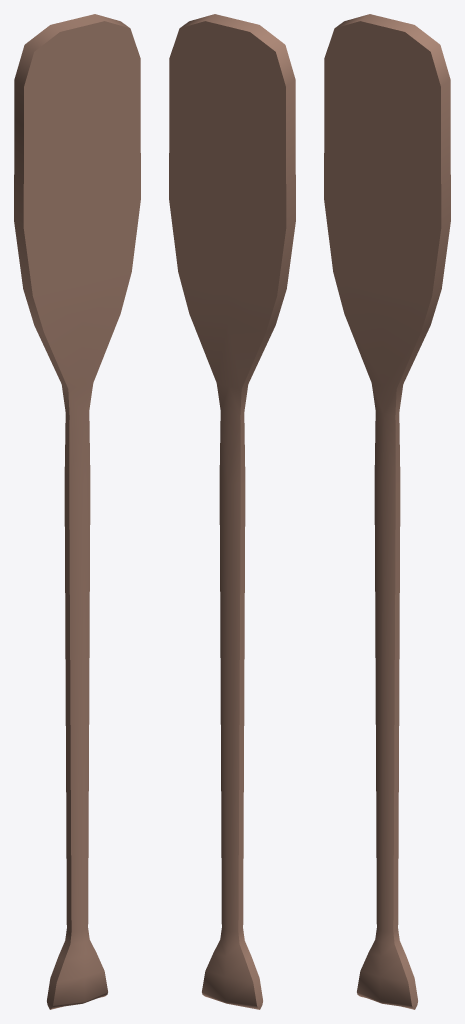
The model's file is Paddle.fbx.
The picture shows the model from 3 angles, left to right: view 1: azimuth 30°, elevation 25°; view 2: azimuth 150°, elevation 25°; view 3: azimuth 330°, elevation 25°; orthographic projection.
Parts seen in each view (by area): view 1: Paddle; view 2: Paddle; view 3: Paddle.
Boxes of the visible parts, bbox=[...] form: Paddle: bbox=[14, 14, 140, 1009]; Paddle: bbox=[169, 14, 295, 1009]; Paddle: bbox=[324, 14, 450, 1009].
Size of the model in its own units: 29.76 by 238 by 6.58.
